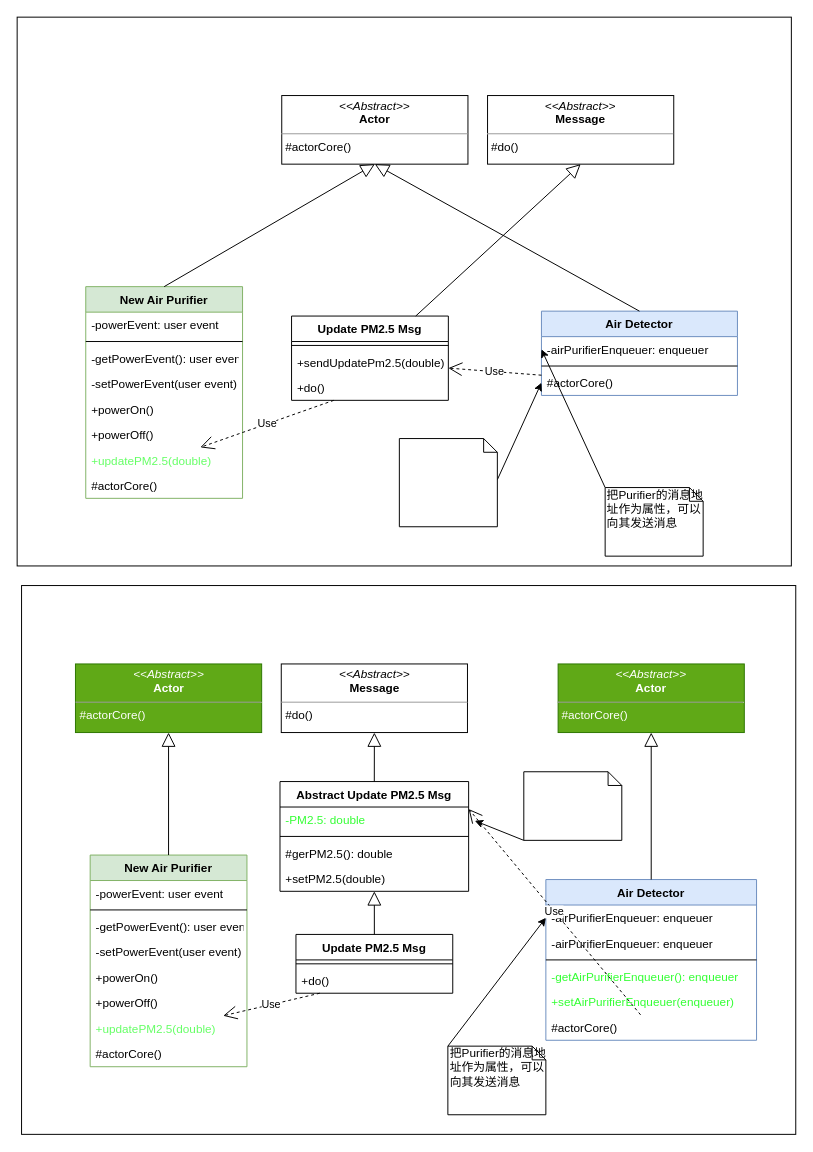
Some shapes in this 813 by 1152 pixel diagram are drawn without their labels. The centre of each missing label's shape, as x and y in pixels:
"依赖倒置原则" belongs at point 572,805.
"由于这里的存在，修改不可避免 不同的操作者的消息不一样 高耦合" belongs at point 447,482.
